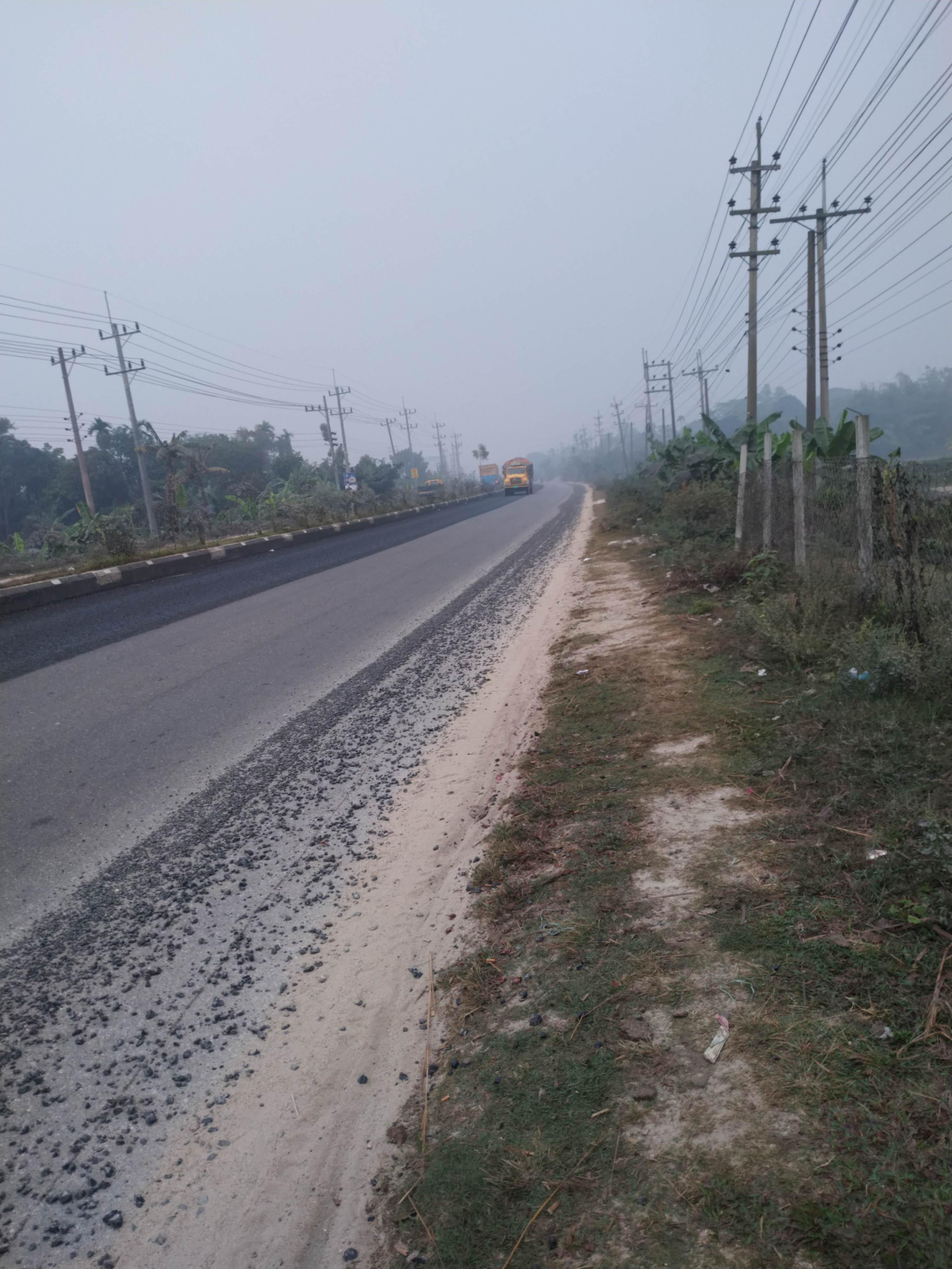Truck: (500, 444, 546, 508)
